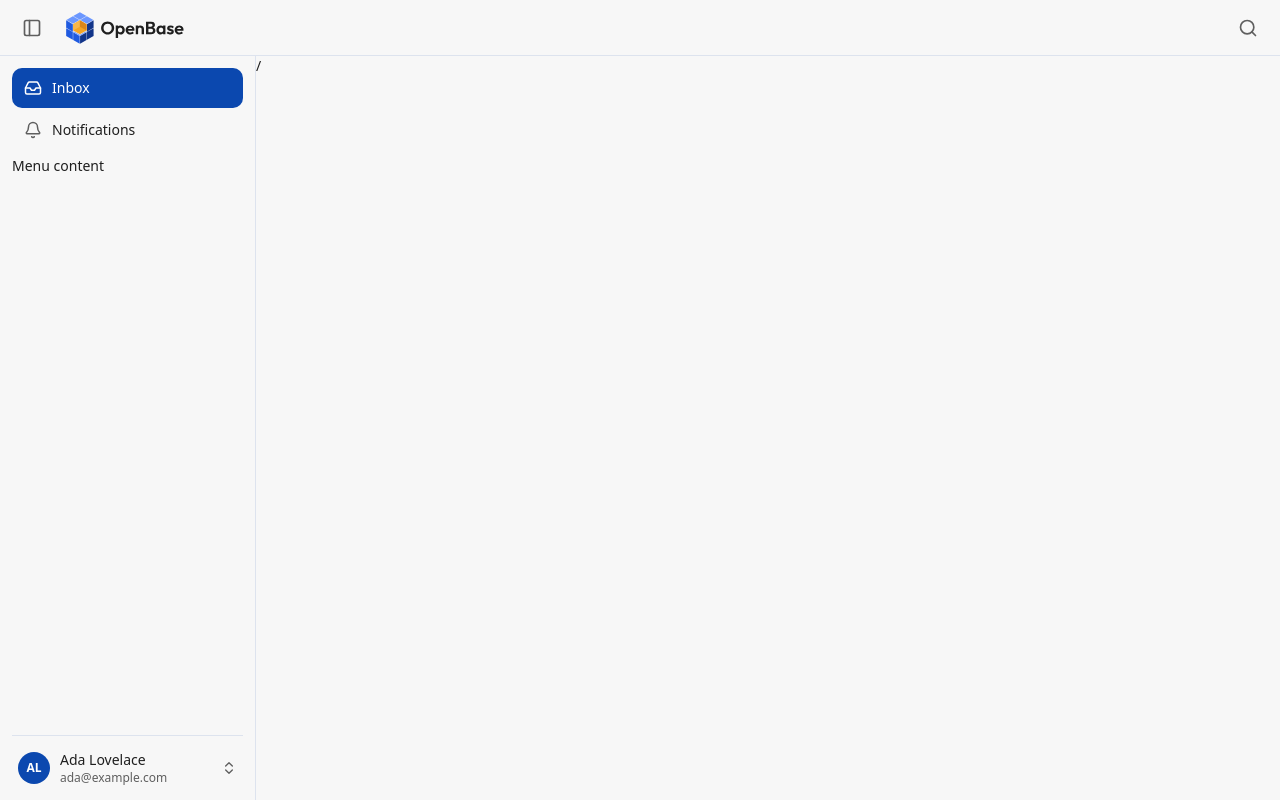
Scenario: Notifications in the docked menu › says what will show up while there is nothing
Click the button "Notifications". click: (128, 130)
box: [12, 110, 243, 150]
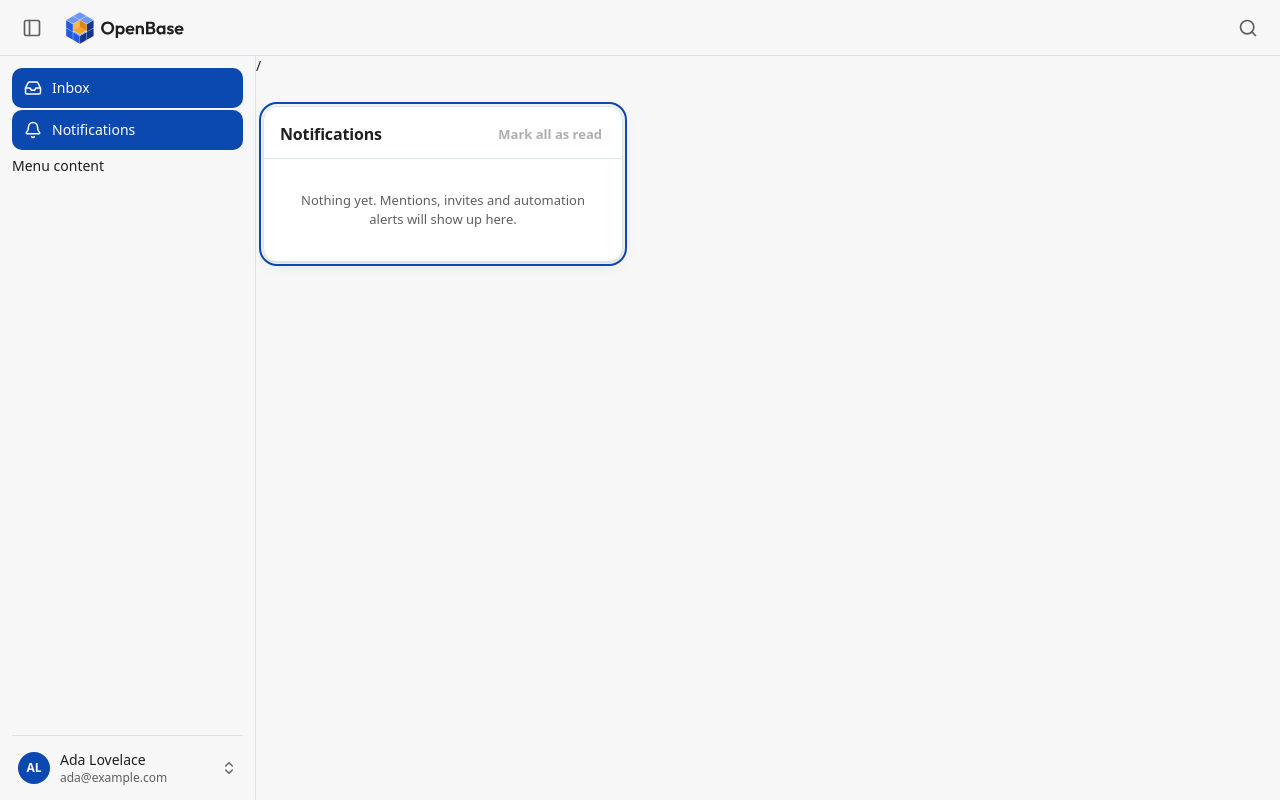
Expected: the text "Nothing yet. Mentions, invites and automation alerts will show up here." is shown, [301, 191, 585, 228]
Expected: the button "Mark all as read" is disabled, [494, 121, 606, 148]
